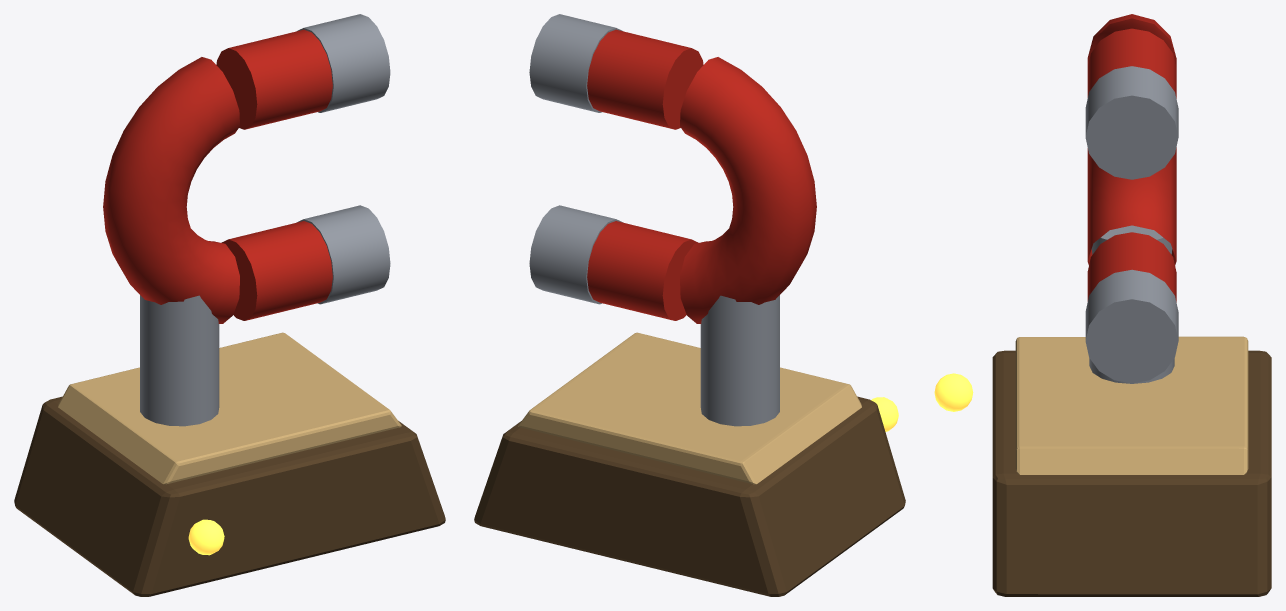
Rendered from magnet_l.glb.
3 renders of one model, left to right at view 1: azimuth 30°, elevation 25°; view 2: azimuth 150°, elevation 25°; view 3: azimuth 270°, elevation 25°, orthographic. The views are drawn at different scales.
Visible parts, largest first — view 1: plinth, plate, horseshoe, post, arm.001, arm, pole.001, pole, lamp; view 2: plinth, plate, horseshoe, post, arm.001, arm, pole.001, pole; view 3: plinth, plate, pole.001, pole, horseshoe, arm.001, arm, lamp, post.
Part boxes in pixels (bbox=[...]): plinth: bbox=[14, 396, 445, 596]; plate: bbox=[58, 332, 401, 484]; horseshoe: bbox=[103, 57, 239, 323]; post: bbox=[140, 295, 219, 426]; arm.001: bbox=[216, 29, 332, 129]; arm: bbox=[221, 221, 332, 320]; pole.001: bbox=[297, 14, 390, 112]; pole: bbox=[297, 205, 390, 304]; lamp: bbox=[188, 519, 224, 555]; plinth: bbox=[474, 396, 905, 596]; plate: bbox=[518, 332, 861, 484]; horseshoe: bbox=[680, 57, 816, 323]; post: bbox=[700, 295, 779, 426]; arm.001: bbox=[587, 29, 703, 129]; arm: bbox=[587, 221, 698, 320]; pole.001: bbox=[529, 14, 622, 112]; pole: bbox=[529, 205, 622, 304]; plinth: bbox=[992, 350, 1271, 596]; plate: bbox=[1015, 336, 1248, 474]; pole.001: bbox=[1085, 66, 1178, 179]; pole: bbox=[1085, 269, 1178, 383]; horseshoe: bbox=[1087, 14, 1176, 265]; arm.001: bbox=[1087, 28, 1176, 98]; arm: bbox=[1087, 232, 1176, 302]; lamp: bbox=[934, 373, 973, 411]; post: bbox=[1089, 225, 1174, 383].
Size of the model in its own units: 9.9 by 14.1 by 8.7.
